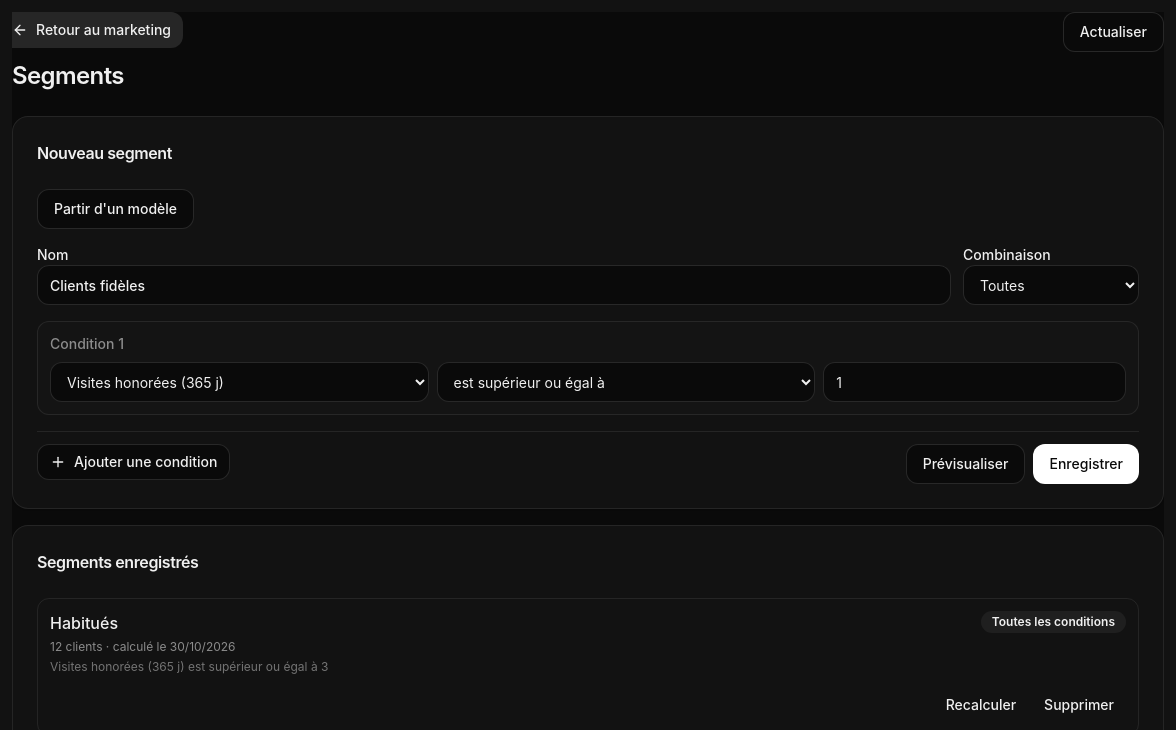
Test: MarketingSegmentsPage › enregistre le segment après sa prévisualisation
The width and height of the screenshot is (1176, 730).
Check: the text "Habitués" is shown, box 50,613 -> 118,633
Replace the text in the field showing "Clients fidèles" with "VIP actifs". click: {"x": 494, "y": 285}
box: 37,265 -> 951,305
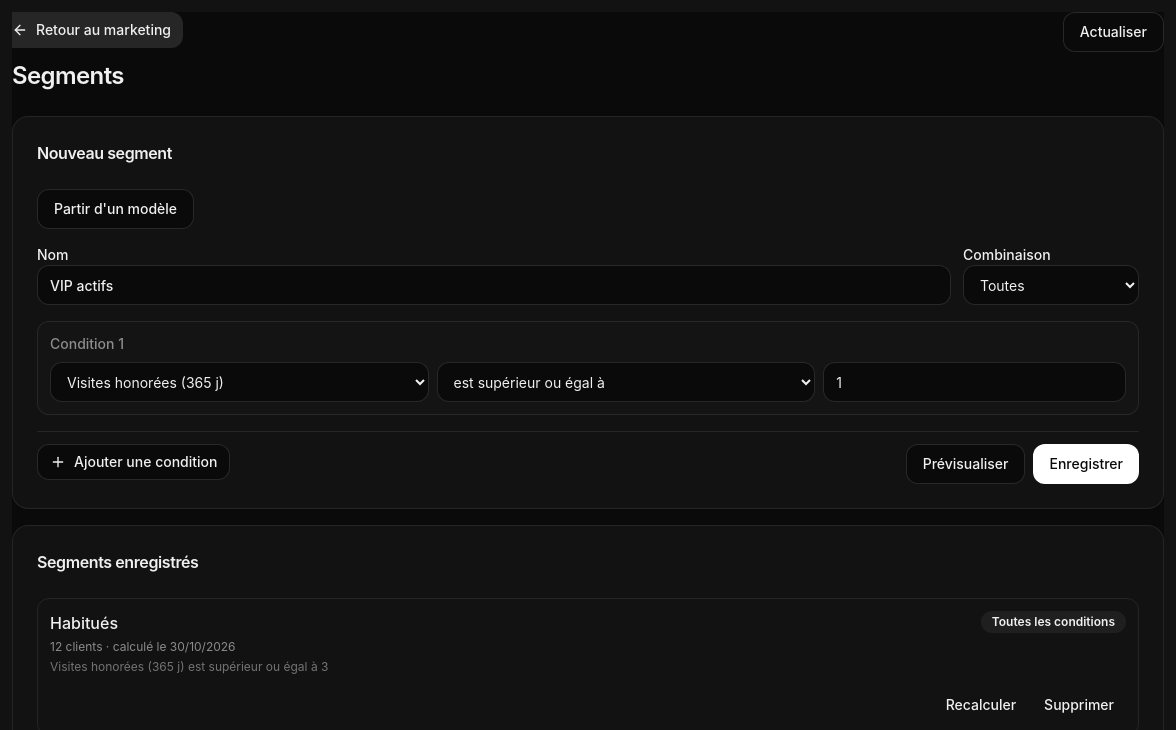
Click the button "Enregistrer". click: {"x": 1086, "y": 464}
box: 1034,444 -> 1139,484
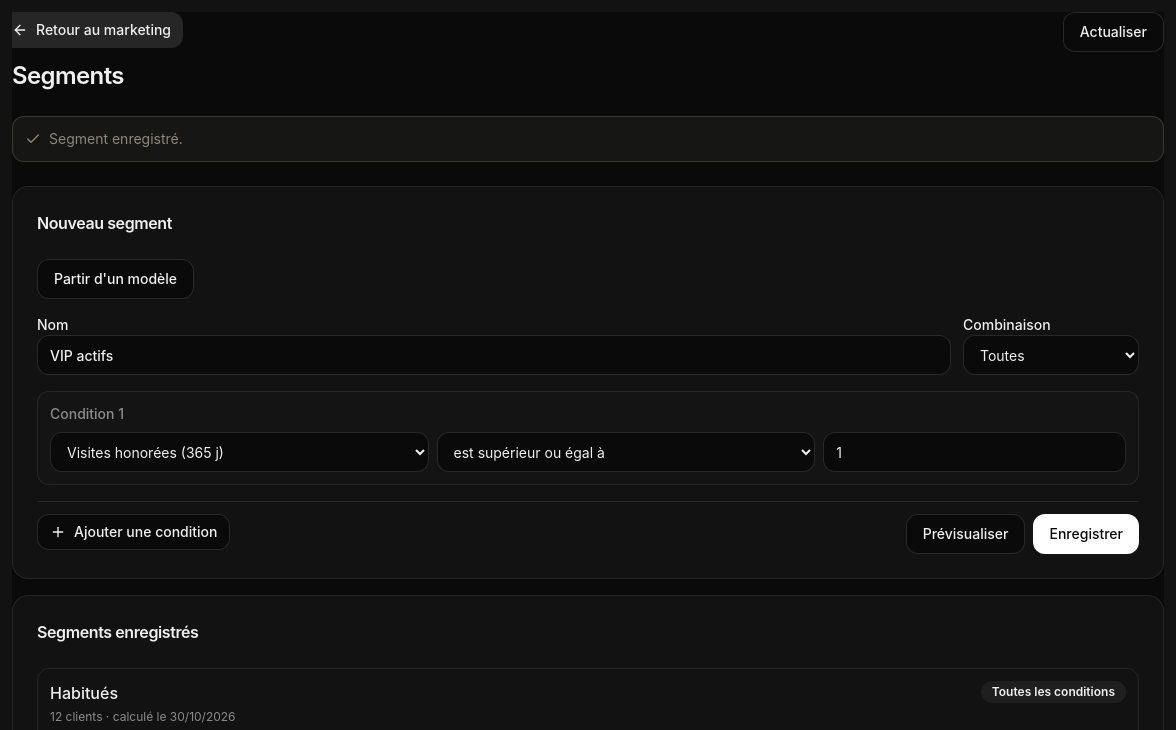
Check: the text "Segment enregistré." is shown, box 12,116 -> 1164,162
